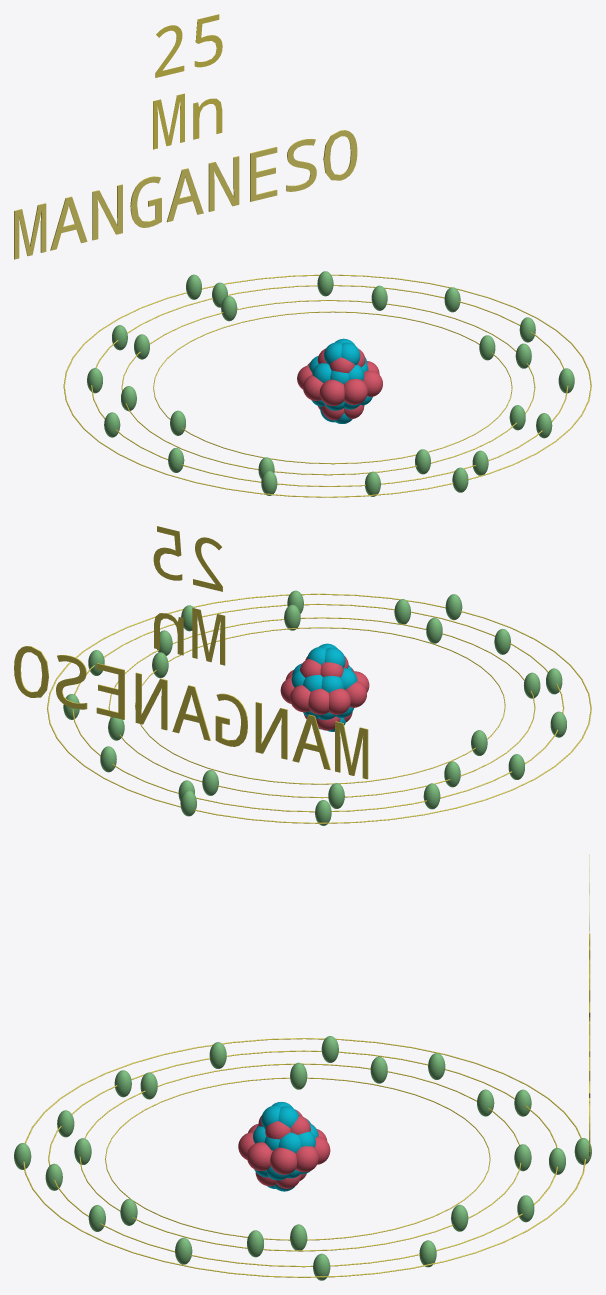
Rendered from 25-MANGANESO-ANDROID.glb.
3 renders of one model, top to bottom at view 1: azimuth 30°, elevation 25°; view 2: azimuth 150°, elevation 25°; view 3: azimuth 270°, elevation 25°, orthographic. The views are drawn at different scales.
Visible parts, largest first — view 1: Mesh_Mesh_head_geo.001_lambert2SG.001; view 2: Mesh_Mesh_head_geo.001_lambert2SG.001; view 3: Mesh_Mesh_head_geo.001_lambert2SG.001.
Boxes of the visible parts, left/top/right/bottom form: Mesh_Mesh_head_geo.001_lambert2SG.001: left=14, top=14, right=591, bottom=497; Mesh_Mesh_head_geo.001_lambert2SG.001: left=14, top=526, right=591, bottom=825; Mesh_Mesh_head_geo.001_lambert2SG.001: left=14, top=854, right=591, bottom=1280.
Size of the model in its own units: 197 by 122 by 201.
